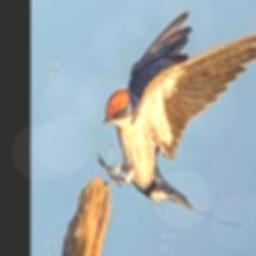Swallow: (97, 11, 256, 228)
